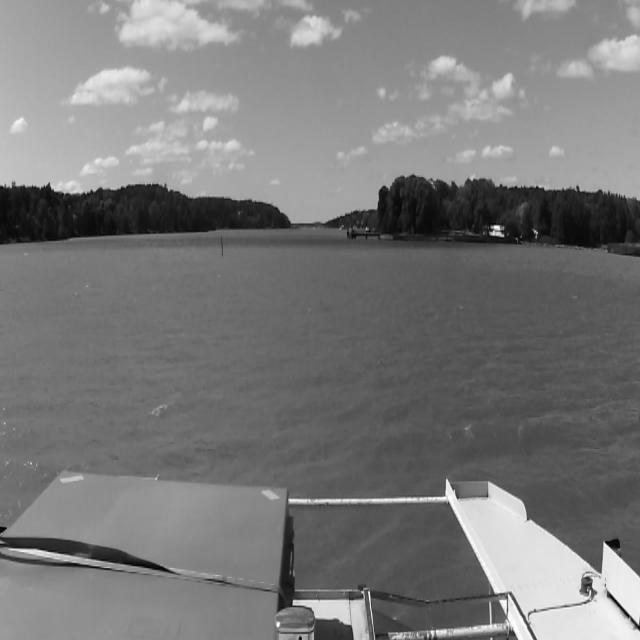buoy: (218, 231, 224, 256)
